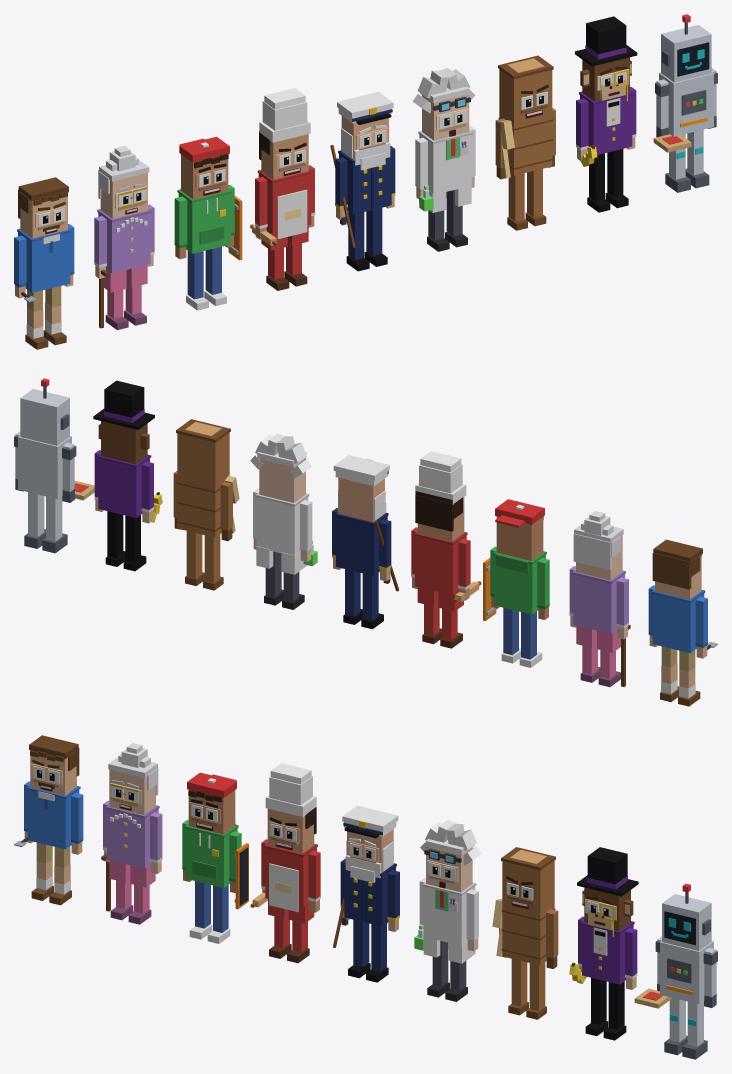
The model's file is ClientsV2.fbx.
3 views of the same model, one above another, from view 1: azimuth 30°, elevation 25°; view 2: azimuth 150°, elevation 25°; view 3: azimuth 330°, elevation 25° (orthographic).
Visible parts, largest first — view 1: RosaTheBaker_Head, BaronVonBanana_Head, CaptainBarnacle_Head, DrFizz_Head, TungTungSahur_Head, GrandmaPearl_Head, RosaTheBaker_UpperTorso, SkaterKev_Head, NeighborDave_Head, BeepBot_Head, BeepBot_UpperTorso, NeighborDave_UpperTorso (+34 smaller); view 2: RosaTheBaker_Head, BaronVonBanana_Head, TungTungSahur_Head, DrFizz_Head, CaptainBarnacle_Head, GrandmaPearl_Head, SkaterKev_Head, NeighborDave_Head, BeepBot_Head, BeepBot_UpperTorso, NeighborDave_UpperTorso, BaronVonBanana_UpperTorso (+34 smaller); view 3: RosaTheBaker_Head, BaronVonBanana_Head, CaptainBarnacle_Head, DrFizz_Head, TungTungSahur_Head, GrandmaPearl_Head, RosaTheBaker_UpperTorso, SkaterKev_Head, NeighborDave_Head, BeepBot_Head, BeepBot_UpperTorso, NeighborDave_UpperTorso (+34 smaller).
Part boxes in pixels (x1,y1,x2,y2): RosaTheBaker_Head: (259, 88, 310, 179); BaronVonBanana_Head: (575, 16, 637, 101); CaptainBarnacle_Head: (337, 92, 393, 170); DrFizz_Head: (413, 67, 475, 140); TungTungSahur_Head: (498, 55, 553, 123); GrandmaPearl_Head: (98, 146, 149, 218); RosaTheBaker_UpperTorso: (257, 169, 312, 238); SkaterKev_Head: (179, 136, 229, 199); NeighborDave_Head: (18, 177, 68, 238); BeepBot_Head: (661, 14, 711, 82); BeepBot_UpperTorso: (659, 72, 713, 136); NeighborDave_UpperTorso: (17, 228, 71, 292); RosaTheBaker_Head: (415, 451, 466, 541); BaronVonBanana_Head: (93, 380, 154, 464); TungTungSahur_Head: (176, 419, 230, 485); DrFizz_Head: (250, 433, 311, 502); CaptainBarnacle_Head: (333, 455, 389, 522); GrandmaPearl_Head: (573, 511, 623, 580); SkaterKev_Head: (495, 499, 544, 560); NeighborDave_Head: (652, 539, 702, 599); BeepBot_Head: (20, 378, 69, 445); BeepBot_UpperTorso: (18, 436, 71, 499); NeighborDave_UpperTorso: (651, 589, 705, 653); BaronVonBanana_UpperTorso: (97, 454, 151, 517); RosaTheBaker_Head: (265, 763, 316, 853); BaronVonBanana_Head: (577, 847, 638, 936); CaptainBarnacle_Head: (342, 805, 398, 882); DrFizz_Head: (420, 820, 481, 892); TungTungSahur_Head: (501, 847, 555, 913); GrandmaPearl_Head: (108, 743, 158, 814); RosaTheBaker_UpperTorso: (264, 843, 317, 912); SkaterKev_Head: (187, 772, 236, 834); NeighborDave_Head: (29, 735, 79, 795); BeepBot_Head: (662, 883, 711, 950); BeepBot_UpperTorso: (660, 941, 713, 1004); NeighborDave_UpperTorso: (26, 785, 80, 849).
Bounding box in the file's own units: 26.11 × 6.65 × 1.95.
1 material, 1 textured.
